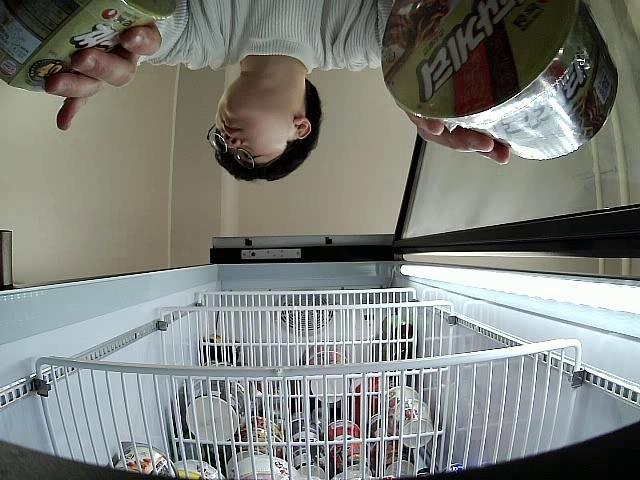03_chapagetti_L: (381, 0, 618, 161), (0, 0, 176, 94)
